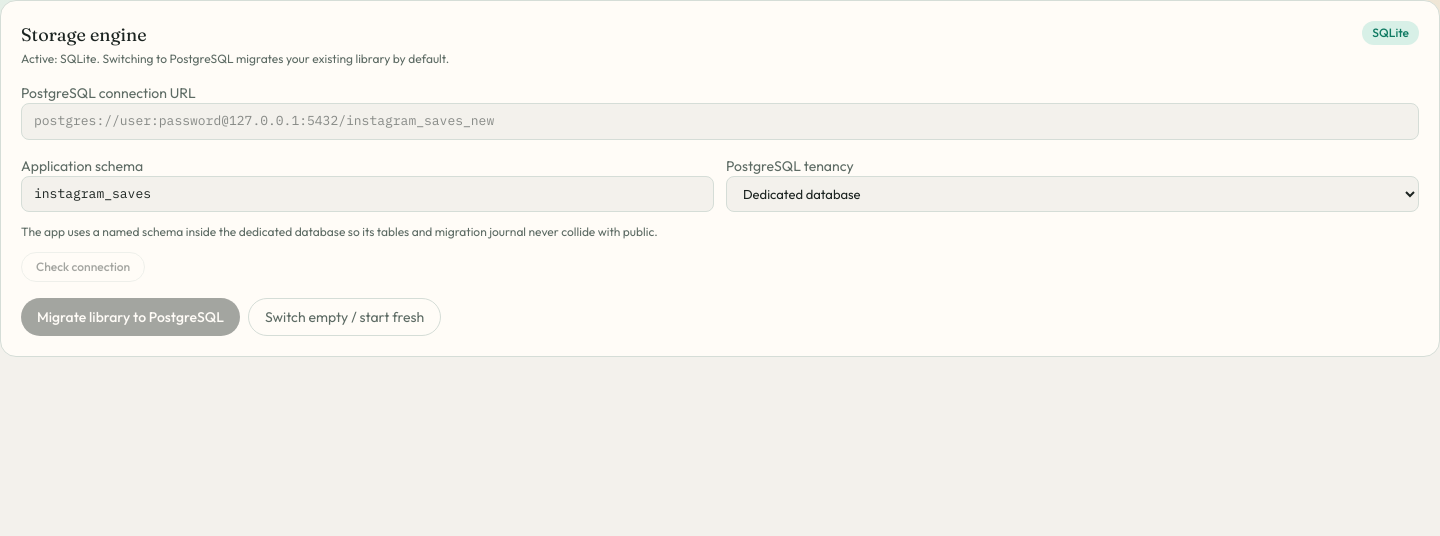
Test: StorageEngineSwitcher › presents migration as the primary default and fresh as optional
expect the button "Migrate library to PostgreSQL" is shown: met, box [21,298,240,336]
expect the text "Type SWITCH EMPTY" is not shown: met
Click the button "Switch empty / start fresh" at x=345, y=317, box [248,298,441,336]
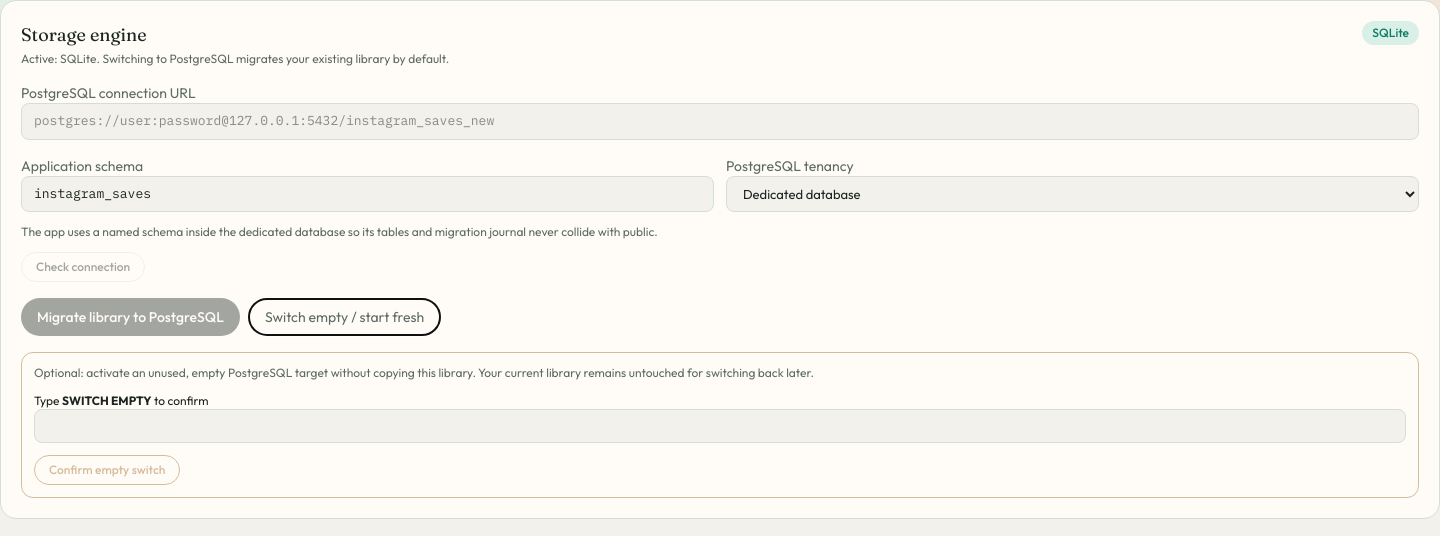
expect the text "activate an unused, empty PostgreSQL target" is shown: met, box [34,365,814,380]
expect the button "Confirm empty switch" is disabled: met, box [34,455,180,485]
